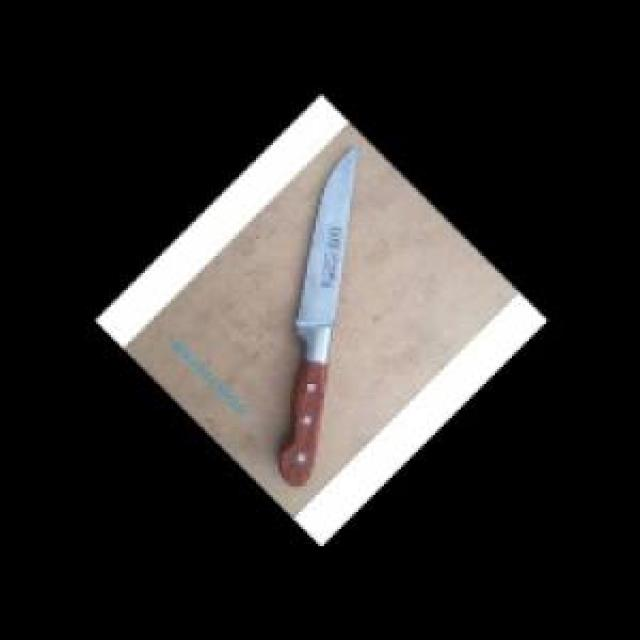knife: (273, 147, 365, 489)
